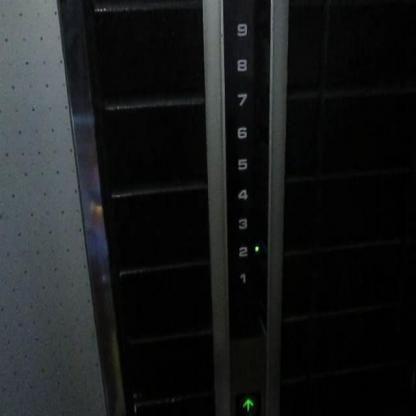1: (236, 268, 250, 287)
2: (236, 241, 250, 260)
3: (235, 214, 250, 233)
4: (235, 184, 250, 204)
5: (235, 154, 250, 173)
6: (233, 122, 250, 141)
7: (233, 90, 250, 108)
8: (232, 54, 250, 74)
9: (232, 19, 250, 38)
up: (232, 386, 261, 415)
